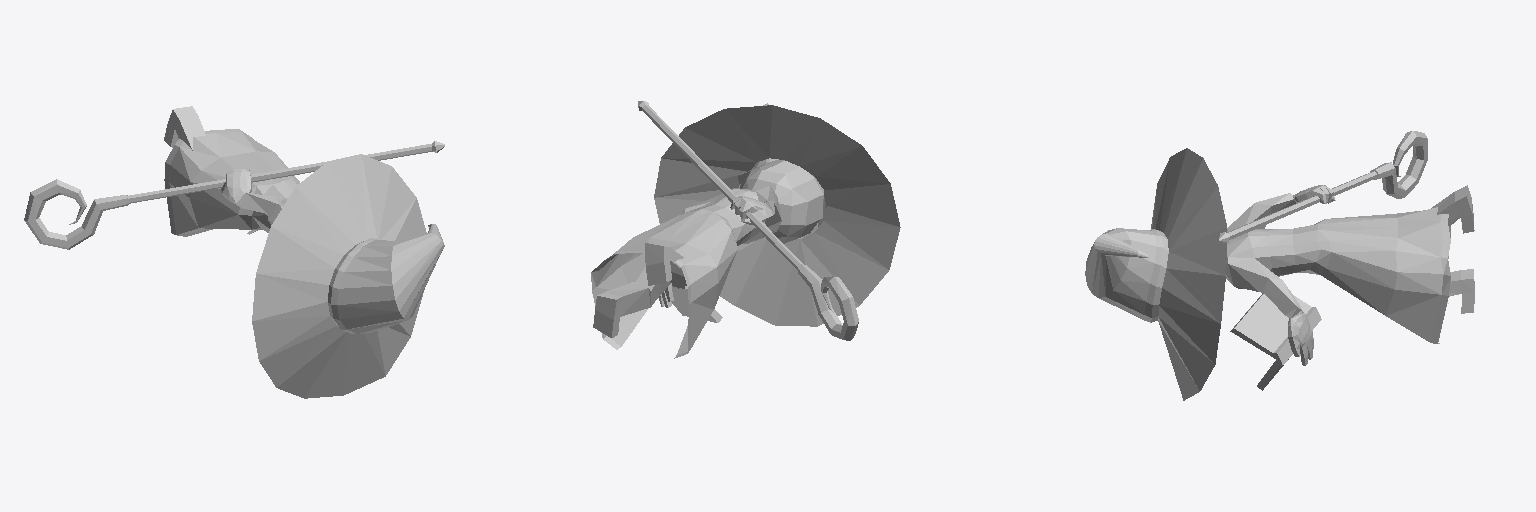
Rendered from wizard_ready.obj.
3 views of the same model, side by side, from view 1: azimuth 30°, elevation 25°; view 2: azimuth 150°, elevation 25°; view 3: azimuth 270°, elevation 25° (orthographic).
Parts seen in each view (by area): view 1: Cube.018_wizard; view 2: Cube.018_wizard; view 3: Cube.018_wizard.
Part boxes in pixels (x1,y1,x2,y2): Cube.018_wizard: (24, 106, 444, 398); Cube.018_wizard: (591, 101, 900, 358); Cube.018_wizard: (1085, 131, 1474, 400).
Size of the model in its own units: 9.55 by 6.54 by 10.08.